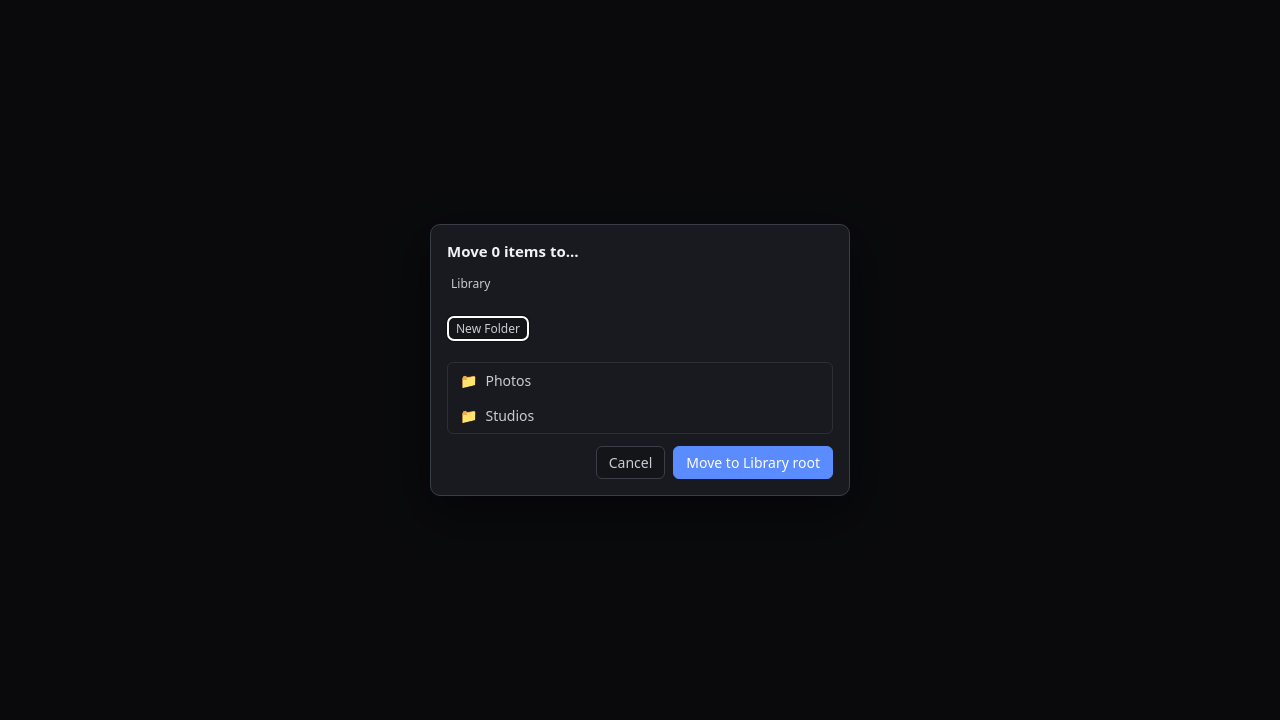
Test: the name box can be abandoned
This screenshot has width=1280, height=720.
Click the button "New Folder" at [488, 328], box [447,316,529,340]
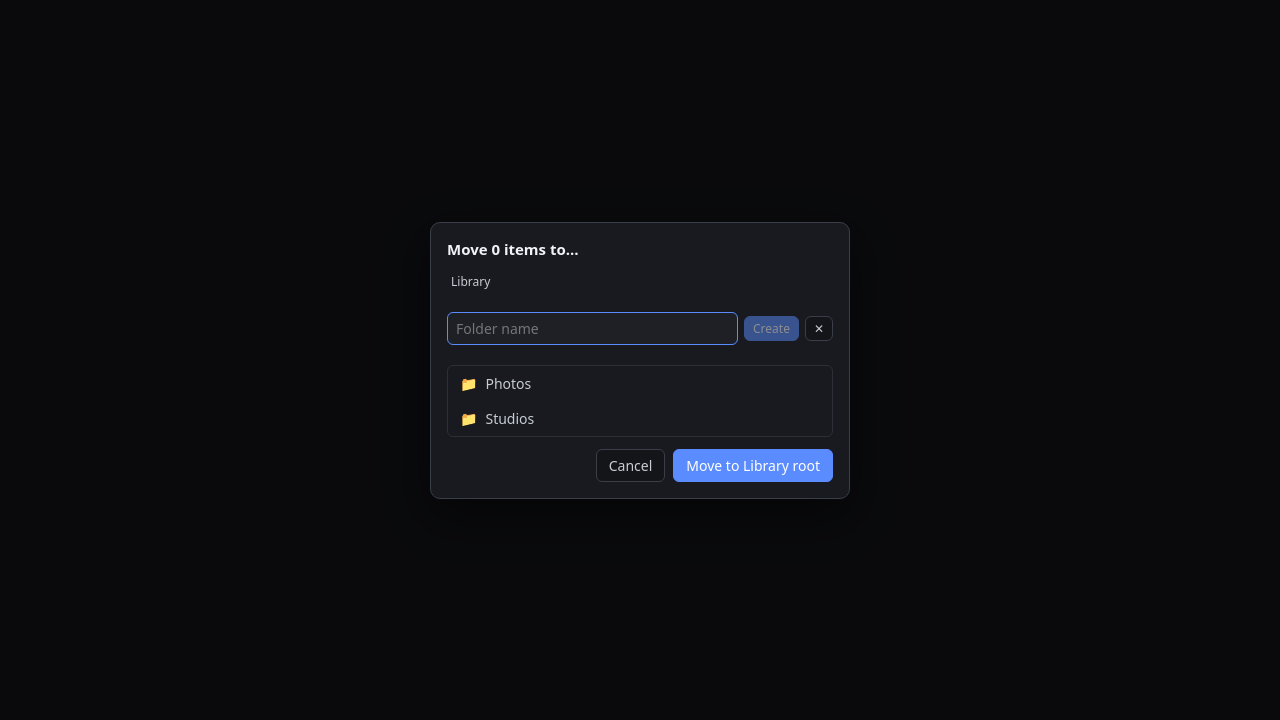
Click the button named "Cancel new folder" at [819, 328], box [805,316,833,340]
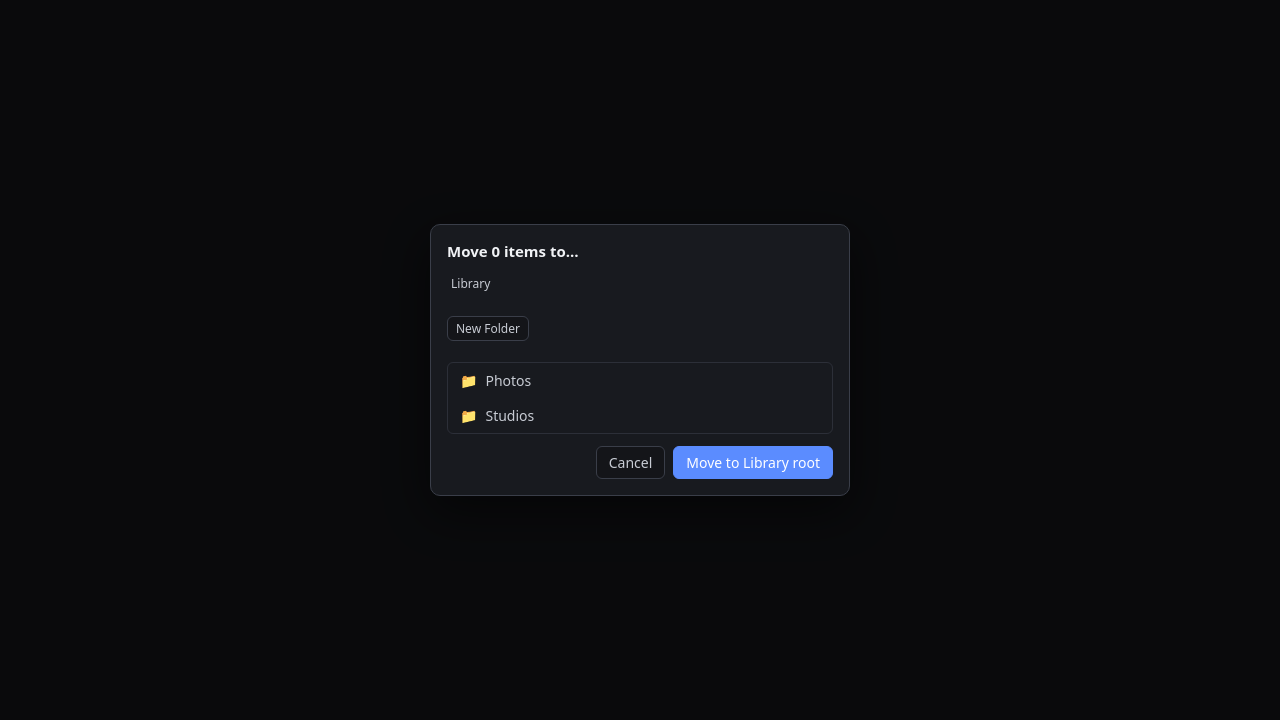
Now the button "New Folder" is shown, box [447,316,529,340]
